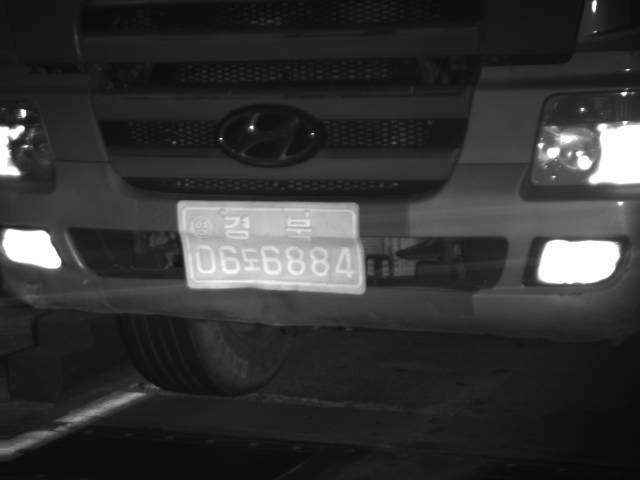car: (1, 1, 639, 396)
plate: (178, 201, 365, 290)
